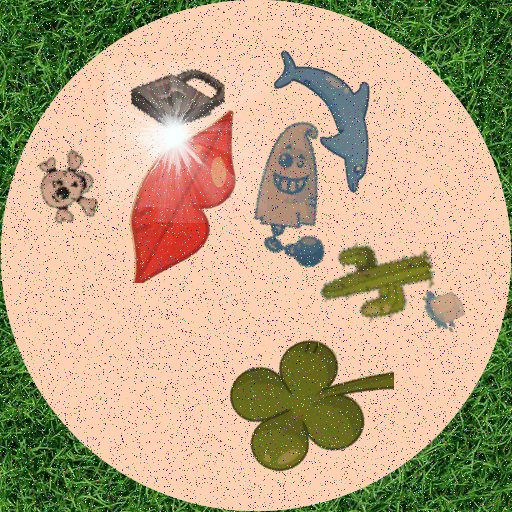cactus_icon: (319, 221, 441, 343)
cloverleaf_icon: (226, 332, 394, 500)
cube_icon: (420, 281, 473, 334)
dolphin_icon: (254, 39, 409, 194)
ghost_icon: (219, 117, 371, 269)
lips_icon: (84, 103, 264, 283)
lock_icon: (131, 49, 225, 143)
skull_icon: (25, 145, 107, 227)
